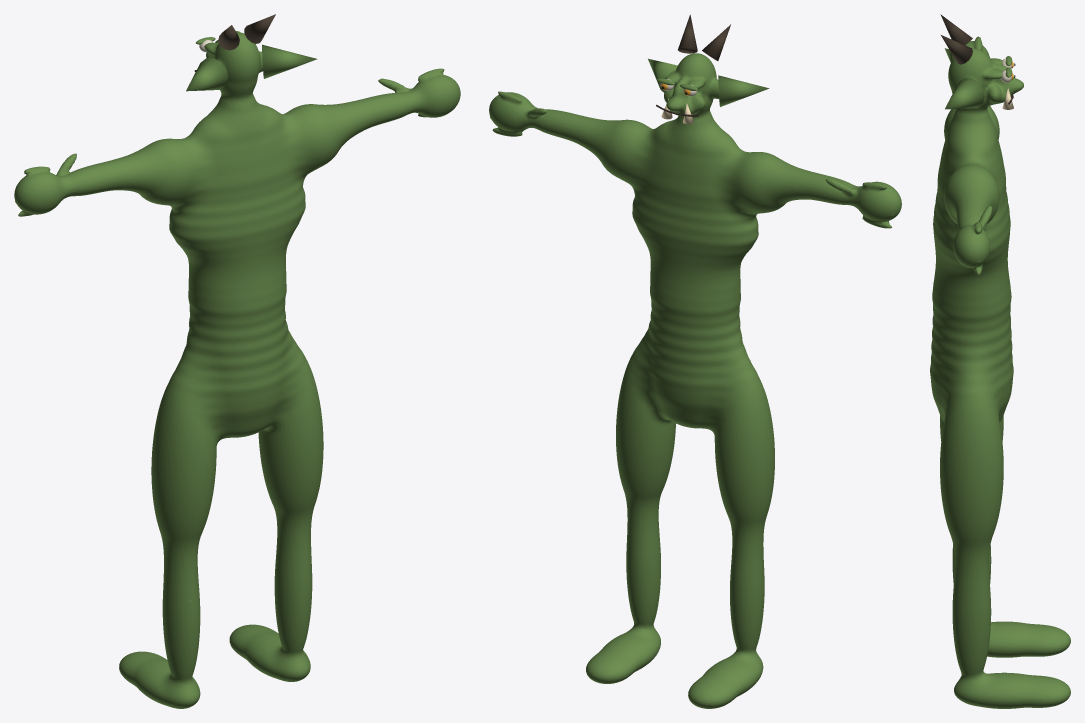
The model's file is character_base_preview.glb.
3 views of the same model, side by side, from view 1: azimuth 30°, elevation 25°; view 2: azimuth 150°, elevation 25°; view 3: azimuth 270°, elevation 25° (orthographic). The views are drawn at different scales.
Parts seen in each view (by area): view 1: ATLAS_PROCEDURAL_BODY_V1; view 2: ATLAS_PROCEDURAL_BODY_V1; view 3: ATLAS_PROCEDURAL_BODY_V1.
Part boxes in pixels (<box>): ATLAS_PROCEDURAL_BODY_V1: <box>14,14,460,708</box>; ATLAS_PROCEDURAL_BODY_V1: <box>489,14,901,708</box>; ATLAS_PROCEDURAL_BODY_V1: <box>930,14,1070,708</box>.
Size of the model in its own units: 1.48 by 2.2 by 0.4284.
